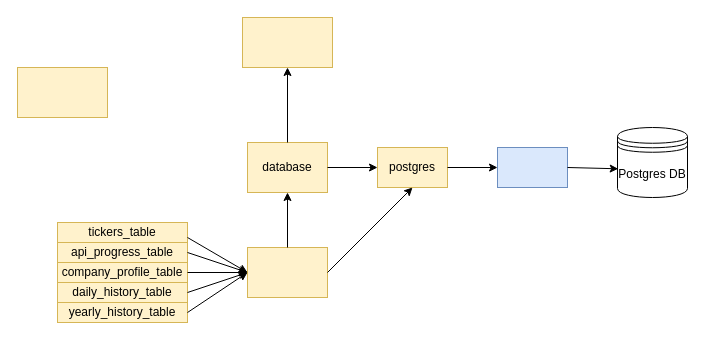
Some shapes in this 705 by 340 pixel diagram are drawn without their labels. Here are the shapes that lost their labels. From the top down, the box of each, then its label:
(242, 16, 332, 68): config
(16, 66, 108, 118): main
(496, 146, 568, 188): psycop2
(246, 246, 328, 298): table
